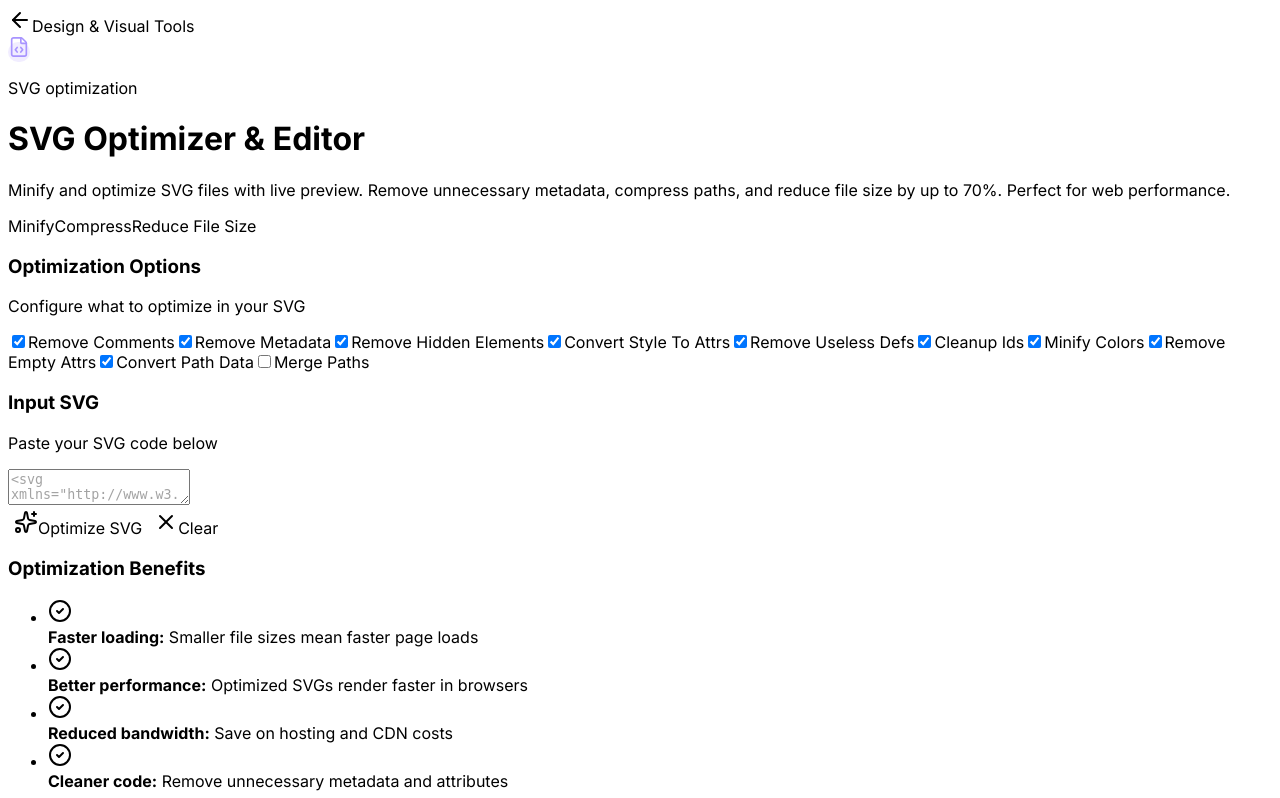
Test: SVGOptimizerPage › SVG Optimization Logic › should keep comments when option is disabled
The width and height of the screenshot is (1280, 798).
Click the checkbox labelled "Remove Comments".
click(18, 342)  # box [12,335,25,348]
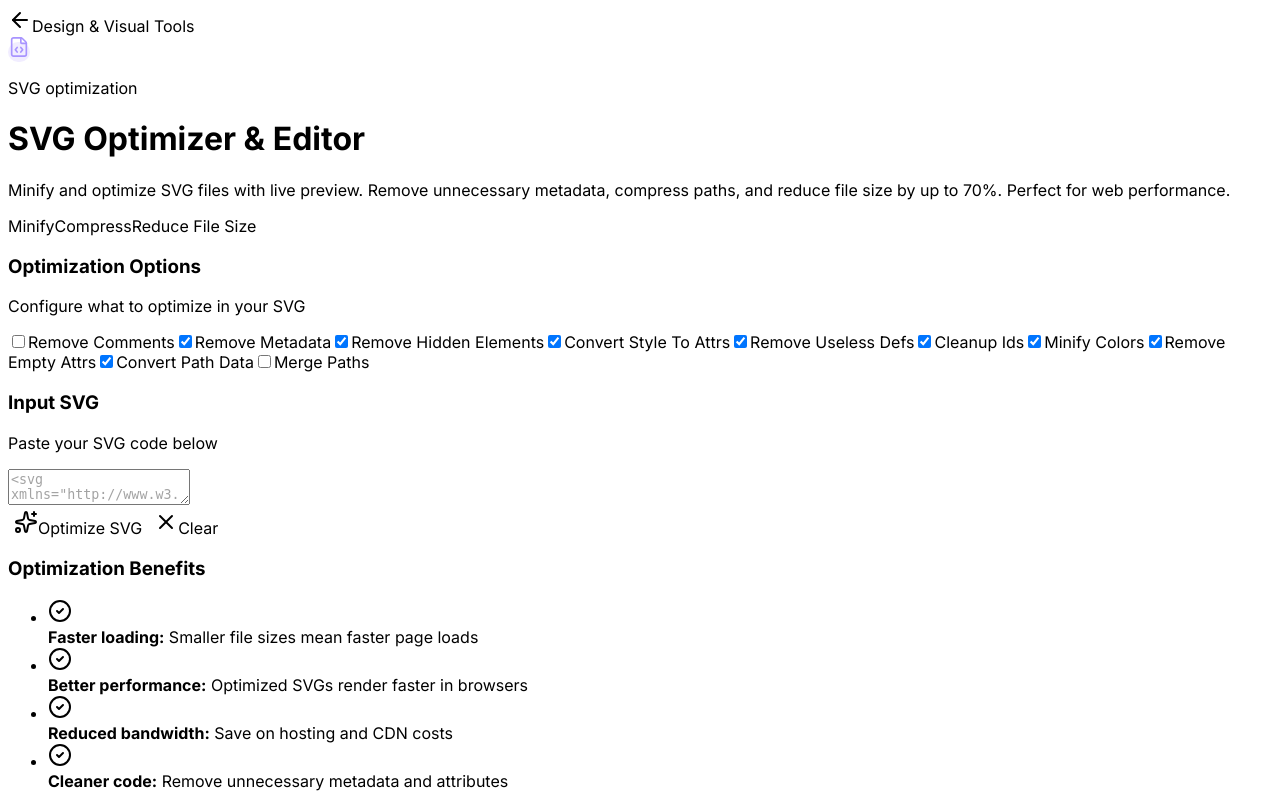
Replace the text in the text box with "<svg><!-- Comment --><circle cx=\"50\" cy=\"50\" r=\"40\"/></svg>" at (99, 487), box [8,469,190,505]
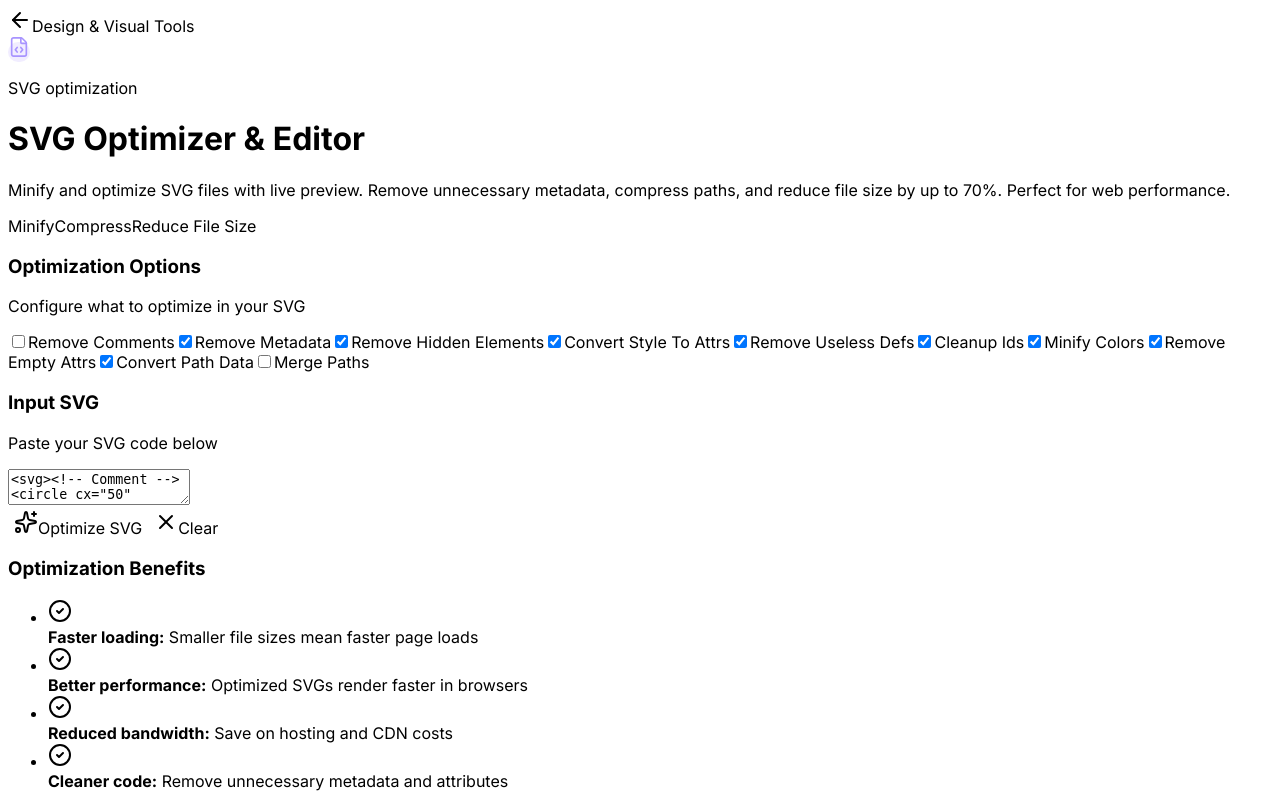
Click the button "Optimize SVG".
click(78, 524)  # box [8,509,148,539]
(page scrolled)
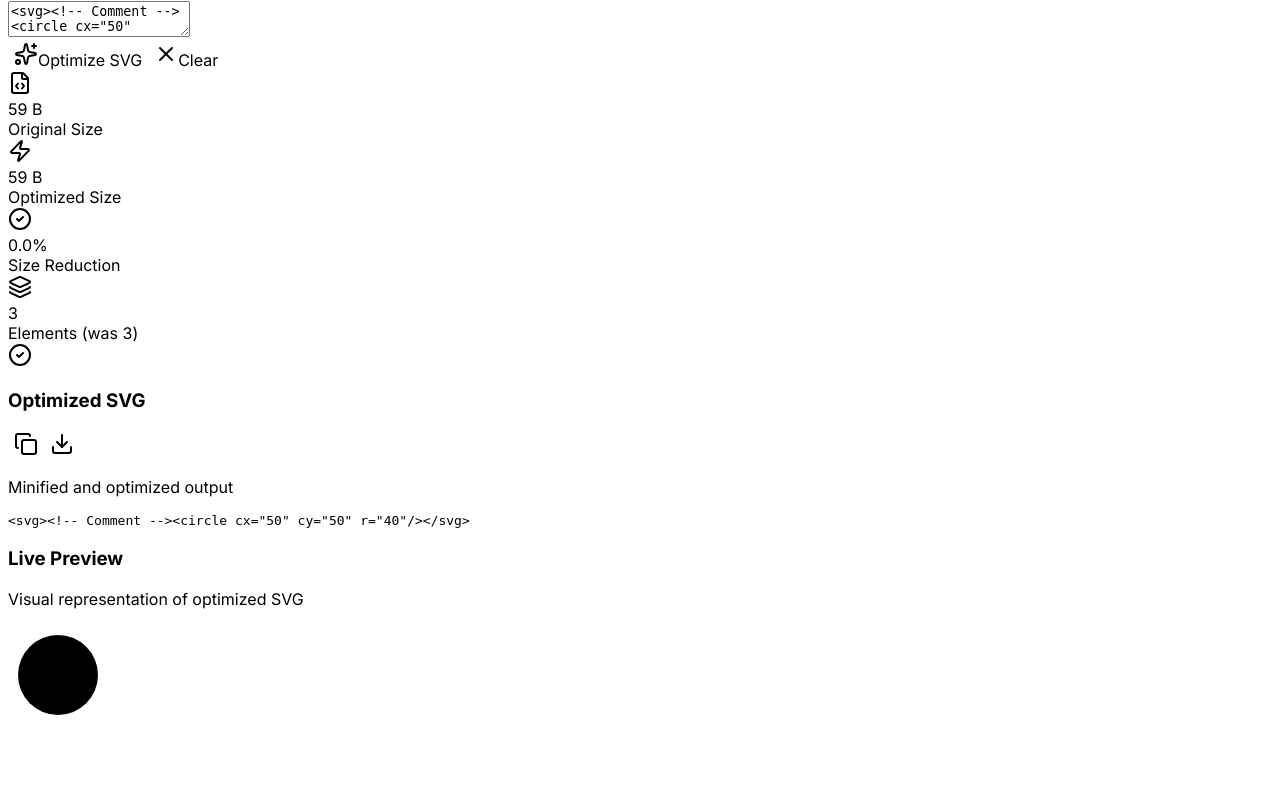
Result: the heading "Optimized SVG" is shown at [8,390,146,412]
